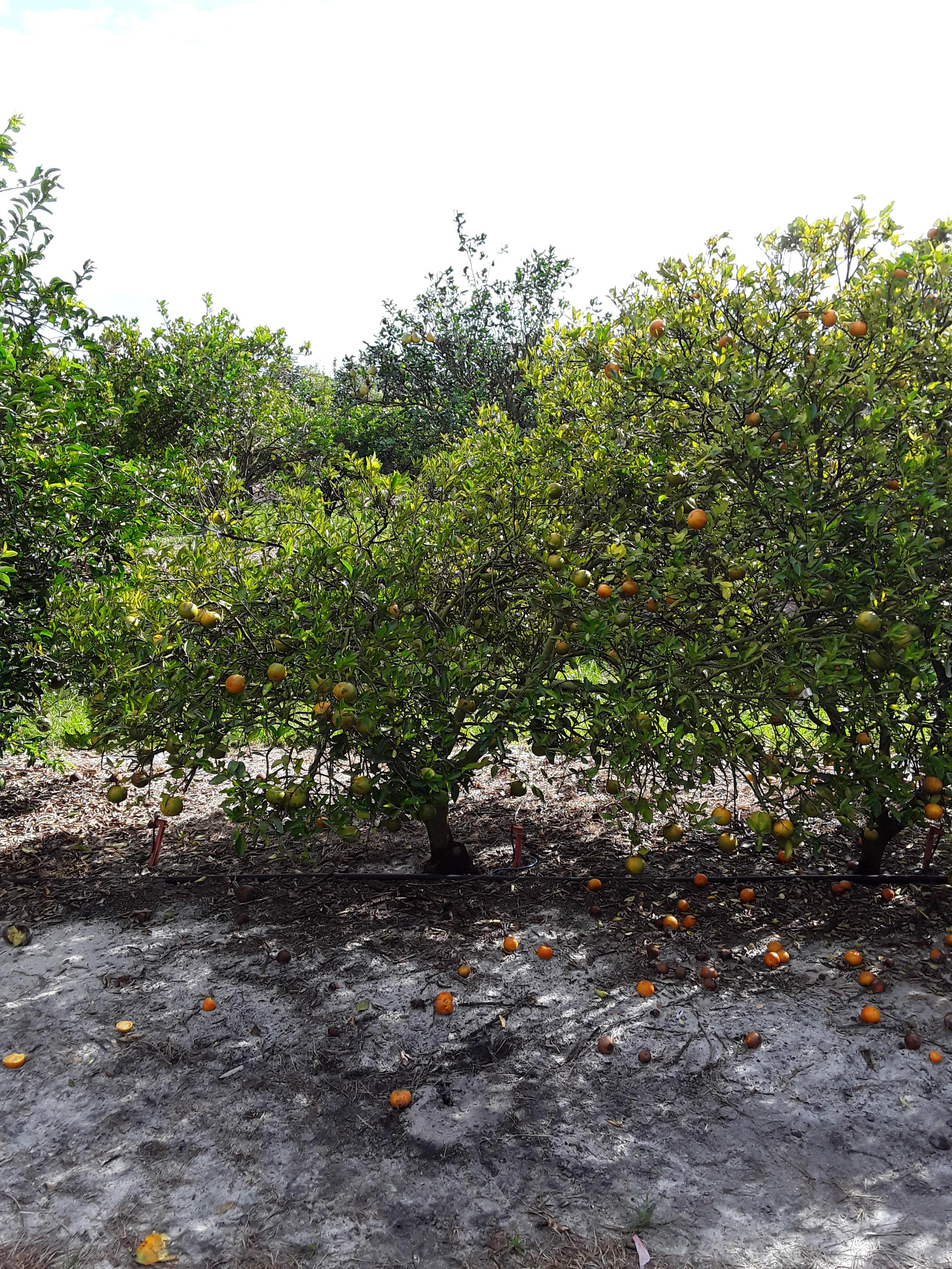fruit_on_ground: (854, 608, 883, 636), (887, 623, 915, 650), (333, 679, 359, 704), (285, 784, 310, 809), (664, 465, 691, 488), (813, 583, 838, 607), (264, 783, 288, 808), (308, 673, 334, 696), (686, 506, 710, 530), (865, 646, 890, 669), (159, 794, 184, 817), (661, 820, 685, 843), (336, 821, 361, 843), (759, 751, 782, 774), (121, 608, 144, 631), (147, 629, 170, 652), (623, 853, 646, 876), (414, 801, 438, 823), (349, 773, 373, 795), (845, 316, 869, 337), (311, 698, 333, 720), (716, 830, 738, 852), (225, 673, 247, 695), (921, 773, 943, 794), (545, 551, 567, 572), (266, 661, 288, 682), (772, 818, 794, 839), (175, 598, 196, 620), (429, 785, 450, 806), (333, 710, 355, 730), (710, 806, 732, 826), (777, 437, 801, 455), (921, 290, 942, 310), (801, 795, 821, 816), (205, 738, 226, 758), (602, 361, 623, 381), (619, 576, 640, 596), (199, 608, 219, 629), (107, 783, 128, 803), (543, 528, 565, 547), (783, 678, 805, 697), (455, 694, 477, 713), (528, 738, 548, 758), (820, 307, 840, 327), (208, 507, 229, 526), (383, 600, 404, 619), (922, 801, 943, 820), (89, 687, 109, 706), (355, 715, 374, 735), (508, 778, 528, 797), (648, 317, 667, 337), (744, 409, 764, 428), (571, 568, 591, 587), (716, 332, 737, 350), (126, 724, 146, 742), (418, 763, 438, 781), (47, 674, 67, 692), (545, 482, 565, 500), (604, 646, 624, 664), (269, 635, 290, 652), (924, 222, 943, 240), (861, 825, 880, 843), (382, 816, 401, 834), (130, 769, 149, 787), (793, 306, 813, 323), (889, 264, 910, 280), (553, 636, 571, 654), (642, 595, 660, 613), (596, 581, 614, 599), (727, 563, 746, 580), (854, 729, 873, 746), (34, 716, 53, 733), (565, 735, 584, 752), (661, 589, 679, 606), (162, 736, 180, 753), (604, 777, 621, 795), (632, 674, 651, 690), (564, 618, 583, 634), (768, 710, 787, 726), (314, 813, 331, 830), (612, 611, 629, 628), (633, 708, 651, 724), (168, 762, 185, 778), (884, 476, 902, 491), (917, 426, 933, 442), (399, 329, 415, 345), (768, 429, 784, 445), (775, 848, 792, 863), (870, 284, 886, 299), (356, 382, 371, 397), (409, 330, 423, 345), (425, 329, 439, 344), (254, 770, 268, 783), (743, 770, 756, 783), (347, 367, 359, 380), (366, 365, 379, 377)
fruit_on_tree: (133, 1229, 174, 1268), (390, 1086, 413, 1109), (434, 991, 454, 1015), (2, 1051, 27, 1069), (860, 1004, 881, 1023), (903, 1031, 922, 1051), (233, 884, 254, 902), (744, 1030, 763, 1049), (843, 947, 863, 965), (636, 978, 655, 996), (597, 1035, 615, 1053), (233, 909, 251, 926), (115, 1018, 134, 1034), (661, 913, 680, 929), (275, 947, 292, 964), (858, 969, 875, 986), (739, 886, 756, 903), (699, 963, 717, 979), (763, 951, 780, 967), (201, 995, 217, 1012), (880, 885, 896, 902), (502, 935, 519, 951), (766, 940, 784, 955), (537, 944, 555, 959), (831, 879, 850, 893), (667, 900, 684, 915), (586, 876, 603, 891), (928, 947, 943, 963), (637, 1048, 652, 1064), (693, 871, 709, 886), (776, 848, 793, 862), (680, 914, 697, 928), (942, 1009, 952, 1032), (929, 1049, 944, 1064), (702, 977, 718, 991), (410, 996, 425, 1010), (717, 946, 732, 960), (671, 966, 686, 980), (871, 980, 886, 994), (457, 962, 471, 977), (777, 949, 791, 963), (655, 960, 669, 974), (843, 859, 858, 872), (327, 1024, 341, 1037), (588, 904, 602, 917), (648, 943, 661, 956), (676, 897, 689, 910), (941, 932, 952, 947), (883, 956, 896, 967)
